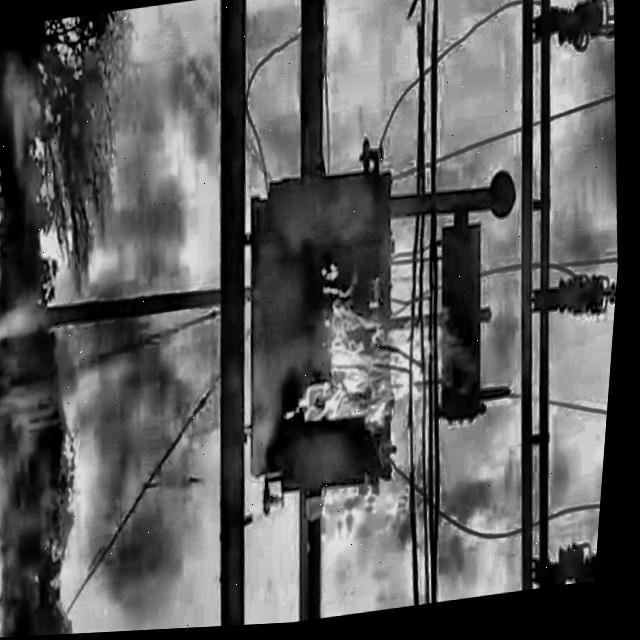Fire: (236, 177, 527, 595)
